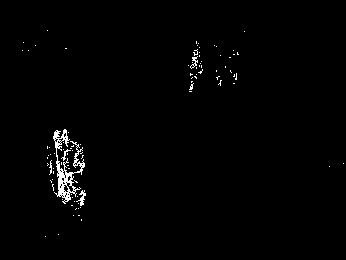person: (48, 127, 86, 212), (190, 37, 204, 93)
